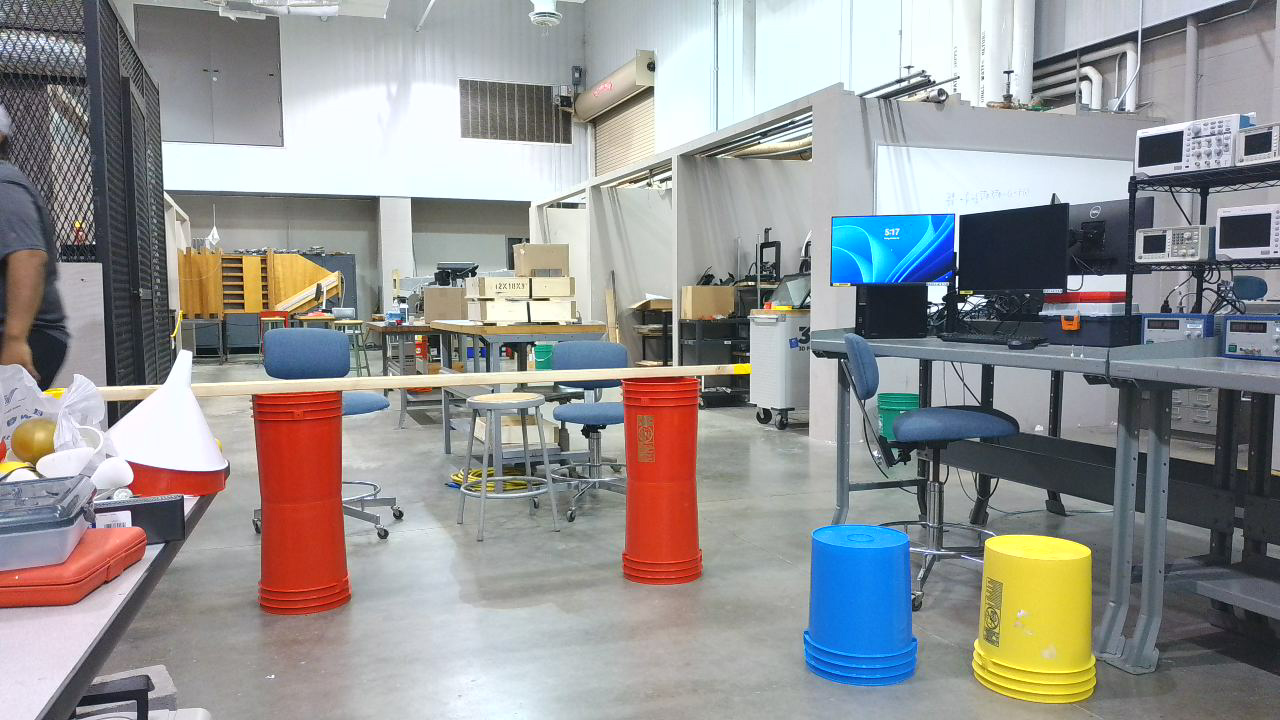blue_bucket: (804, 526, 929, 696)
red_bucket_arch: (252, 374, 712, 623)
yellow_bucket: (973, 537, 1109, 713)
